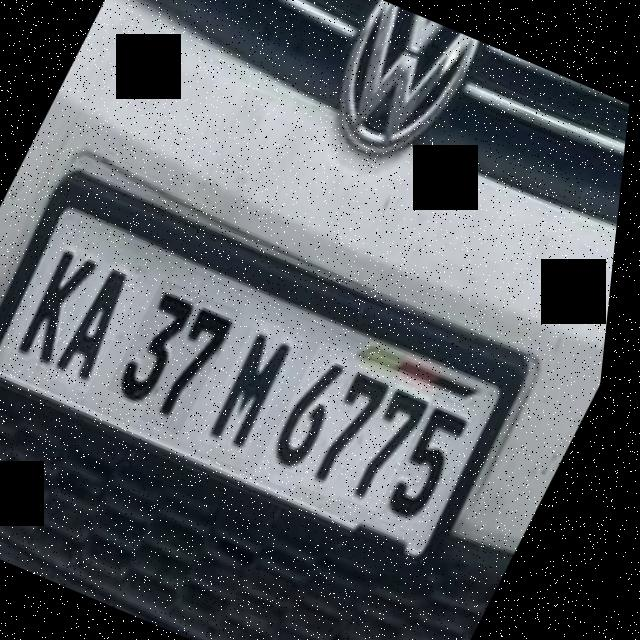3: (113, 279, 210, 406)
5: (382, 390, 495, 540)
6: (262, 340, 370, 491)
7: (306, 360, 408, 500), (147, 296, 249, 435), (347, 376, 446, 512)
A: (53, 262, 152, 393)
K: (10, 240, 112, 370)
M: (203, 318, 314, 460)
